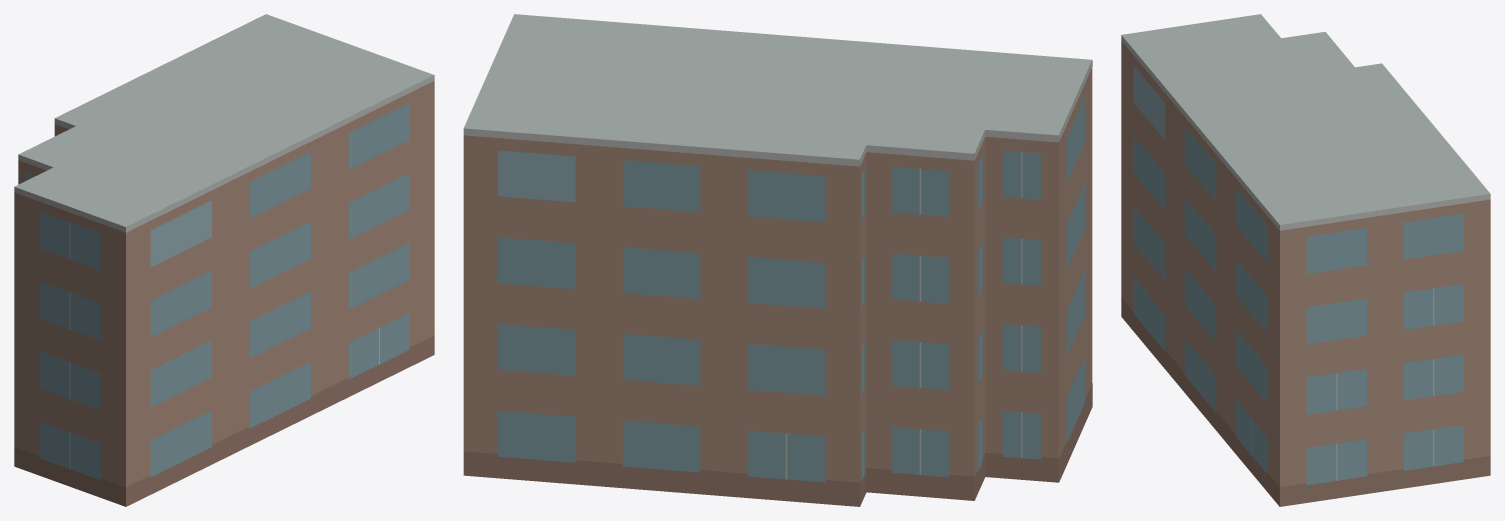
The model's file is residential-c6e59638-5b90-4e63-829c-e12c18a4b50c.glb.
The picture shows the model from 3 angles, left to right: view 1: azimuth 30°, elevation 25°; view 2: azimuth 150°, elevation 25°; view 3: azimuth 270°, elevation 25°; orthographic projection. The views are drawn at different scales.
Parts seen in each view (by area): view 1: residential-c6e59638-5b90-4e63-829c-e12c18a4b50c.tmp; view 2: residential-c6e59638-5b90-4e63-829c-e12c18a4b50c.tmp; view 3: residential-c6e59638-5b90-4e63-829c-e12c18a4b50c.tmp.
Part boxes in pixels (bbox=[...]): residential-c6e59638-5b90-4e63-829c-e12c18a4b50c.tmp: bbox=[14, 14, 434, 506]; residential-c6e59638-5b90-4e63-829c-e12c18a4b50c.tmp: bbox=[463, 14, 1092, 506]; residential-c6e59638-5b90-4e63-829c-e12c18a4b50c.tmp: bbox=[1121, 14, 1490, 506].
Size of the model in its own units: 19.62 by 12.2 by 14.51.
